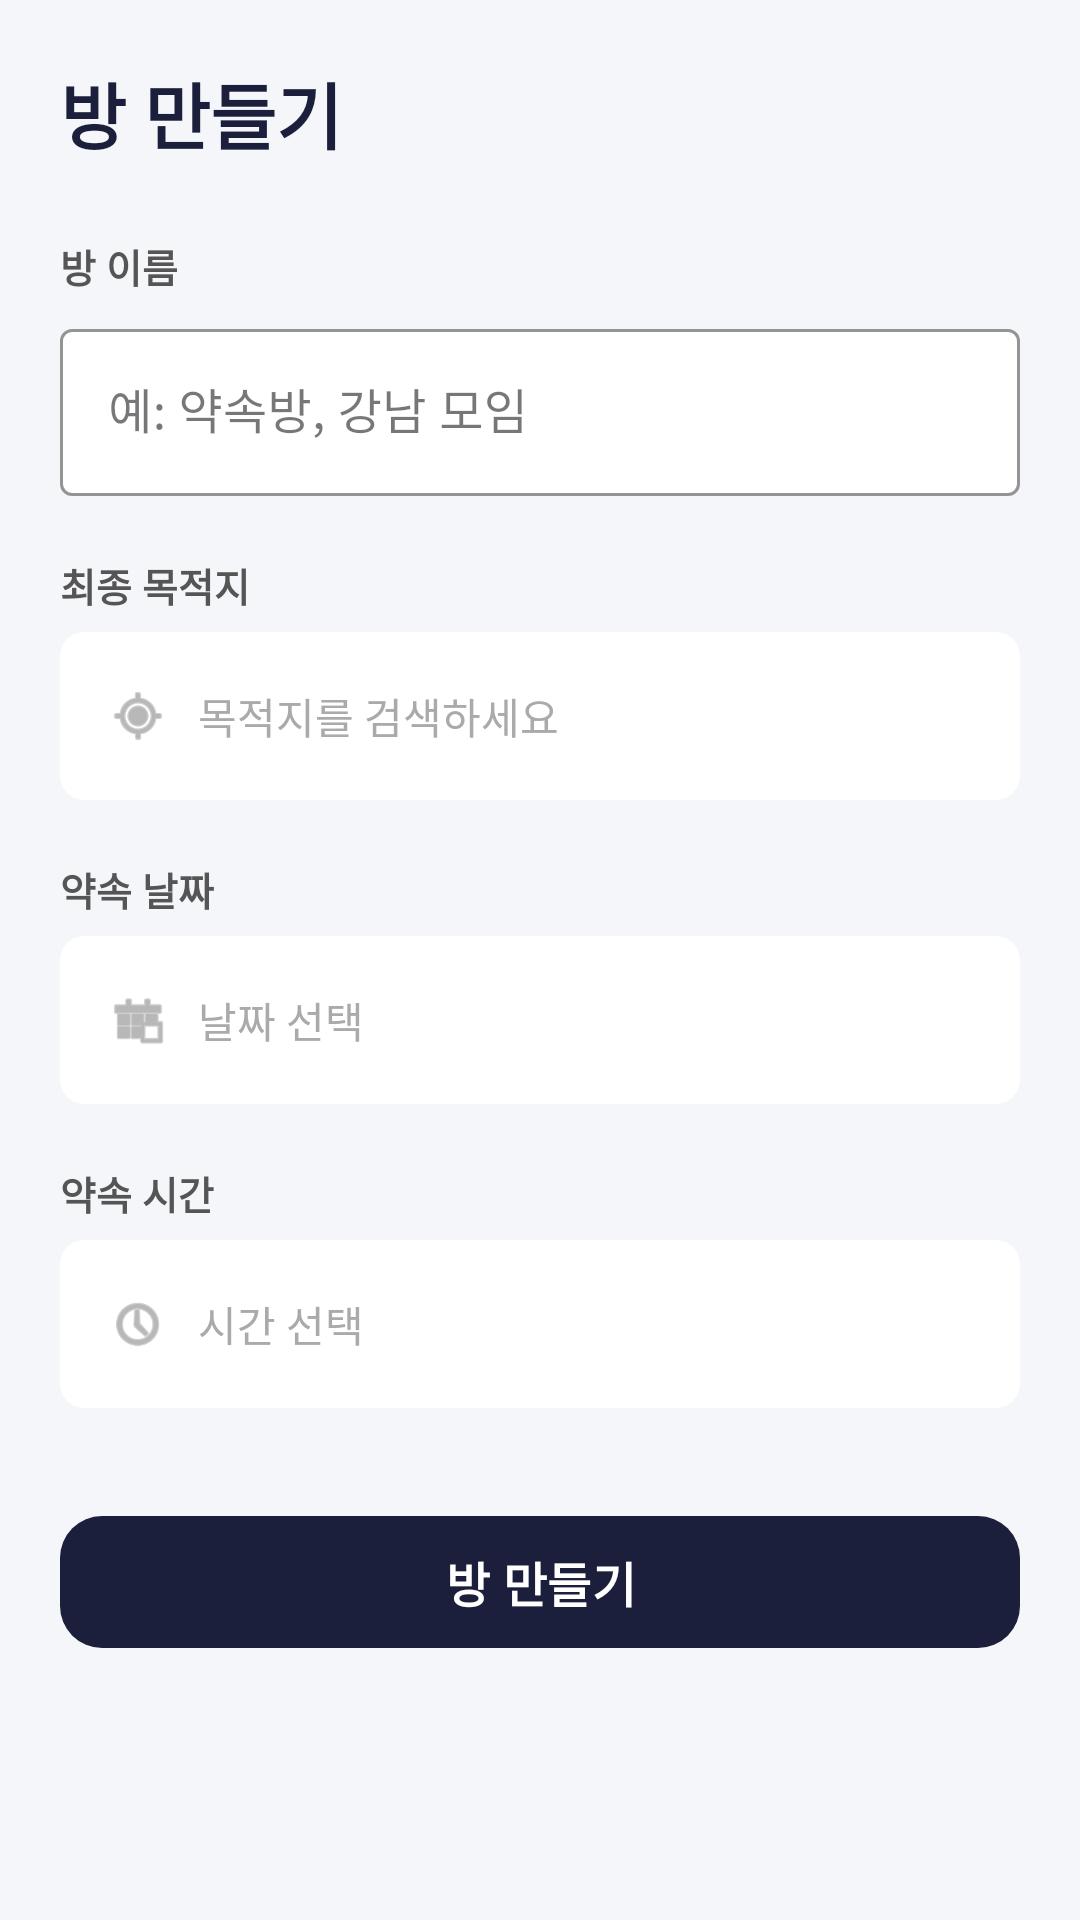

Named icons in this screenshot (1080 x 1920) and their bounding boxes, (x1,y1,x2,y2):
mylocation: (114,692,162,740)
recent history: (116,1303,159,1346)
today: (114,998,163,1044)
